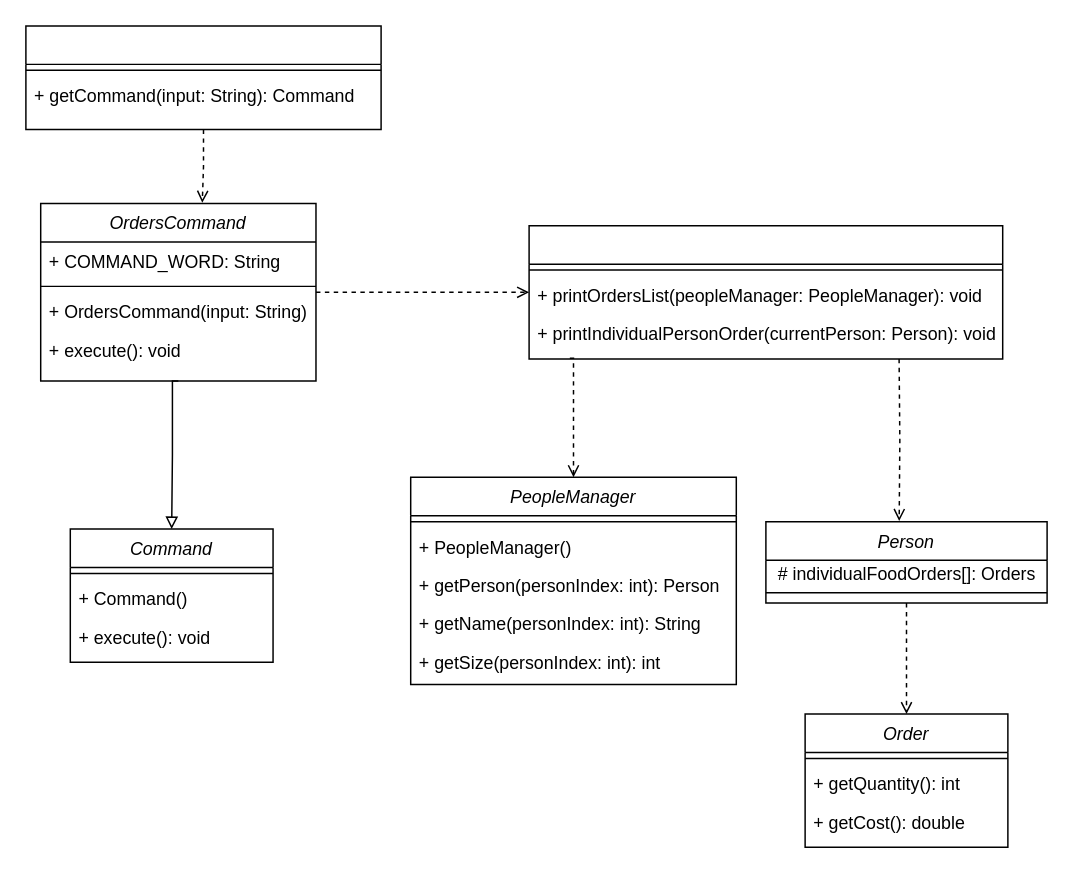
Some shapes in this 1073 by 873 pixel diagram are drawn without their labels. Here are the shapes that lost their labels. From the top down, the box of each, then its label:
(24, 24, 381, 130): Parser
(528, 224, 1003, 359): UI
